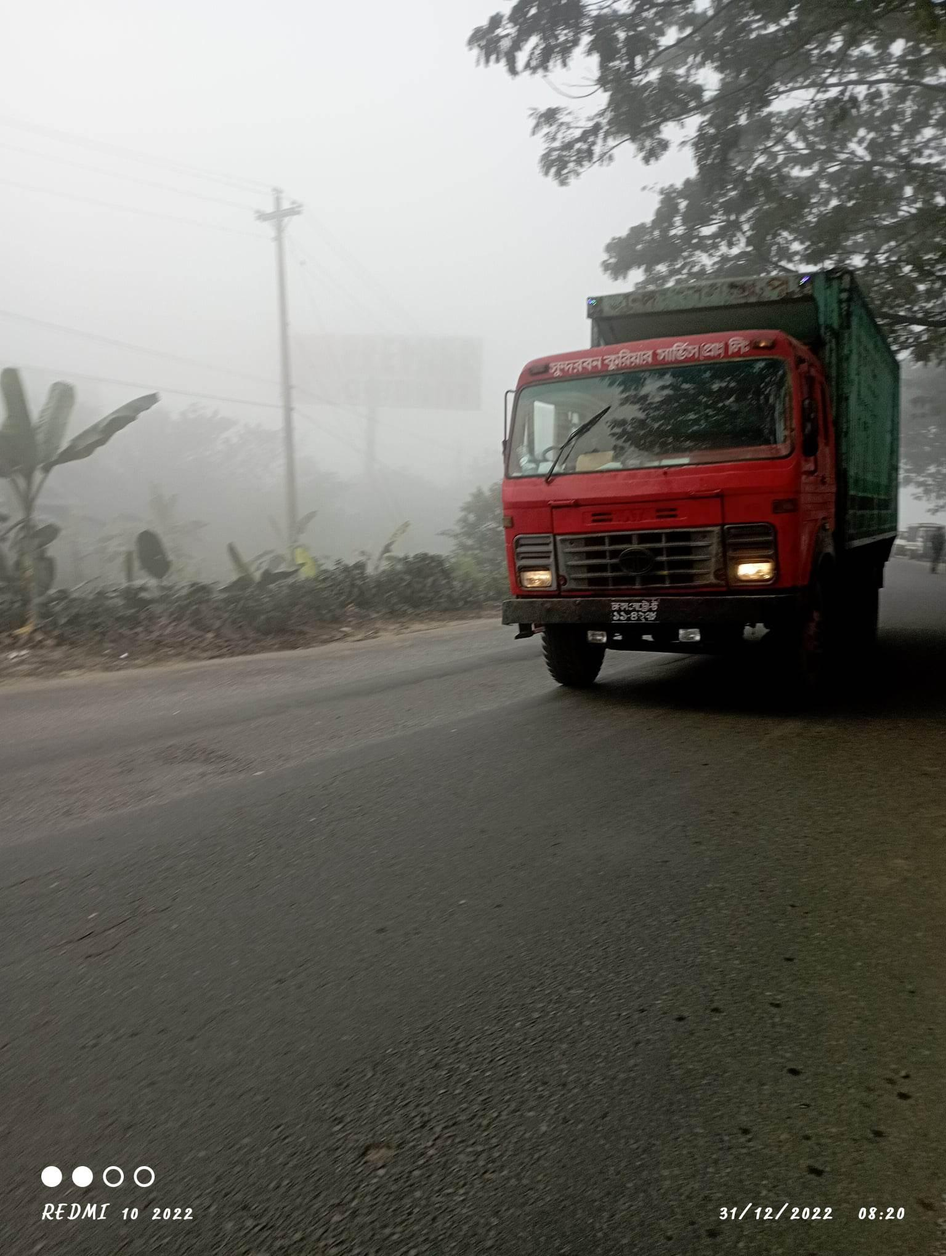Truck: (459, 241, 922, 727)
